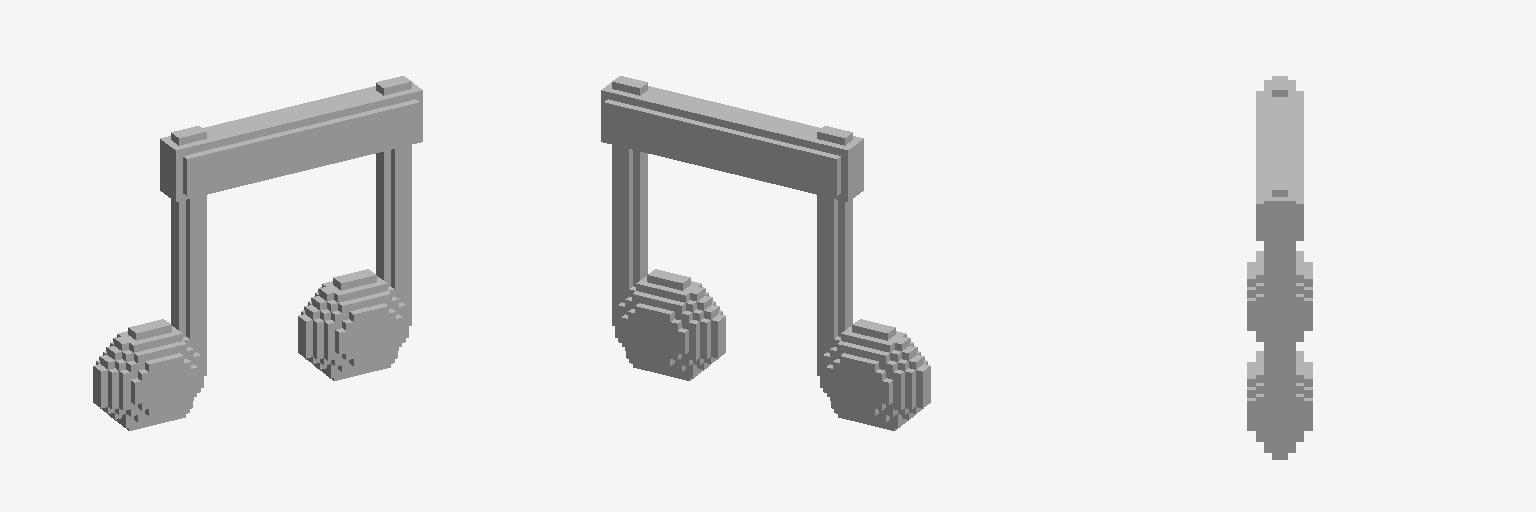
The model's file is note3.vox.obj.
The picture shows the model from 3 angles: view 1: azimuth 30°, elevation 25°; view 2: azimuth 150°, elevation 25°; view 3: azimuth 270°, elevation 25°; orthographic projection.
Visible parts, largest first — view 1: object 1; view 2: object 1; view 3: object 1.
Boxes of the visible parts, <box> form: object 1: <box>93,76,422,430</box>; object 1: <box>601,76,930,430</box>; object 1: <box>1247,76,1312,459</box>.
Size of the model in its own units: 4.5 by 3.8 by 0.8.